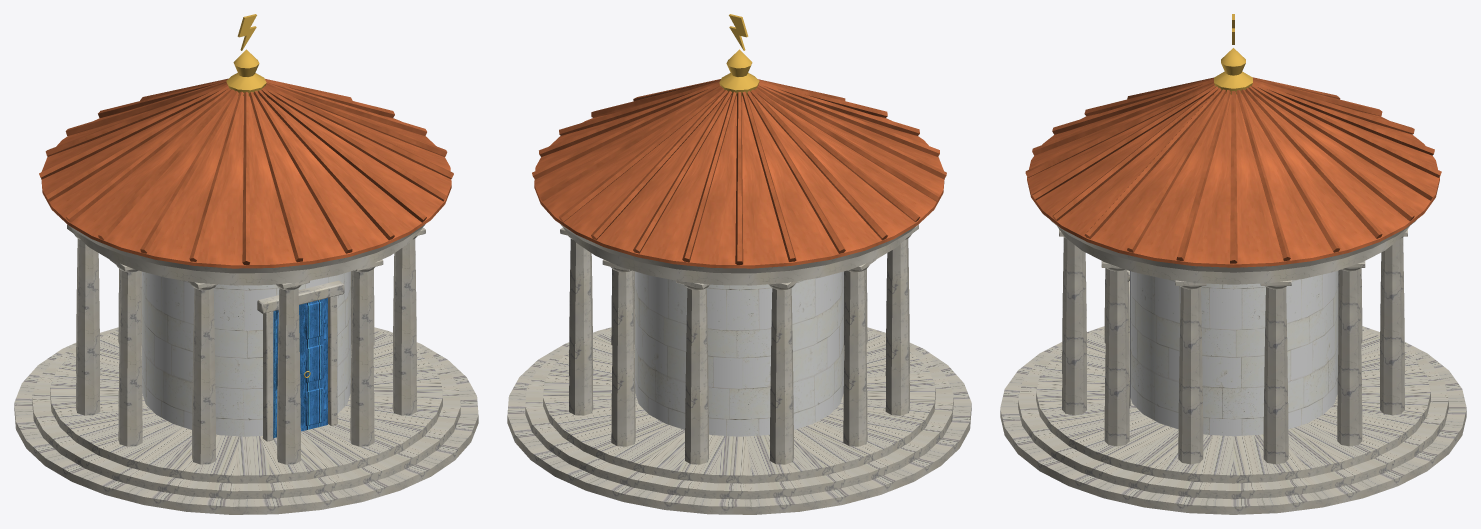
Rendered from civic_tholos.glb.
The picture shows the model from 3 angles, left to right: view 1: azimuth 30°, elevation 25°; view 2: azimuth 150°, elevation 25°; view 3: azimuth 270°, elevation 25°; orthographic projection.
Visible parts, largest first — view 1: step, terracotta0, marble, terracotta1, hall, azure_wood, gold; view 2: step, terracotta0, marble, hall, terracotta1, gold; view 3: step, terracotta0, marble, hall, terracotta1, gold.
Boxes of the visible parts, x1,y1,x2,y2 form: step: [14, 327, 478, 514]; terracotta0: [41, 95, 451, 268]; marble: [67, 224, 425, 464]; terracotta1: [39, 78, 453, 264]; hall: [142, 271, 350, 436]; azure_wood: [273, 298, 327, 438]; gold: [226, 14, 310, 377]; step: [507, 327, 971, 514]; terracotta0: [534, 95, 944, 268]; marble: [560, 224, 918, 464]; hall: [635, 271, 843, 436]; terracotta1: [532, 79, 946, 264]; gold: [719, 14, 759, 96]; step: [1000, 326, 1466, 514]; terracotta0: [1027, 93, 1439, 267]; marble: [1050, 220, 1416, 464]; hall: [1130, 271, 1338, 436]; terracotta1: [1025, 77, 1441, 263]; gold: [1214, 14, 1252, 94].
Size of the model in its own units: 7.8 by 7.4 by 7.8.
Materials: 9 (7 with a texture image).
